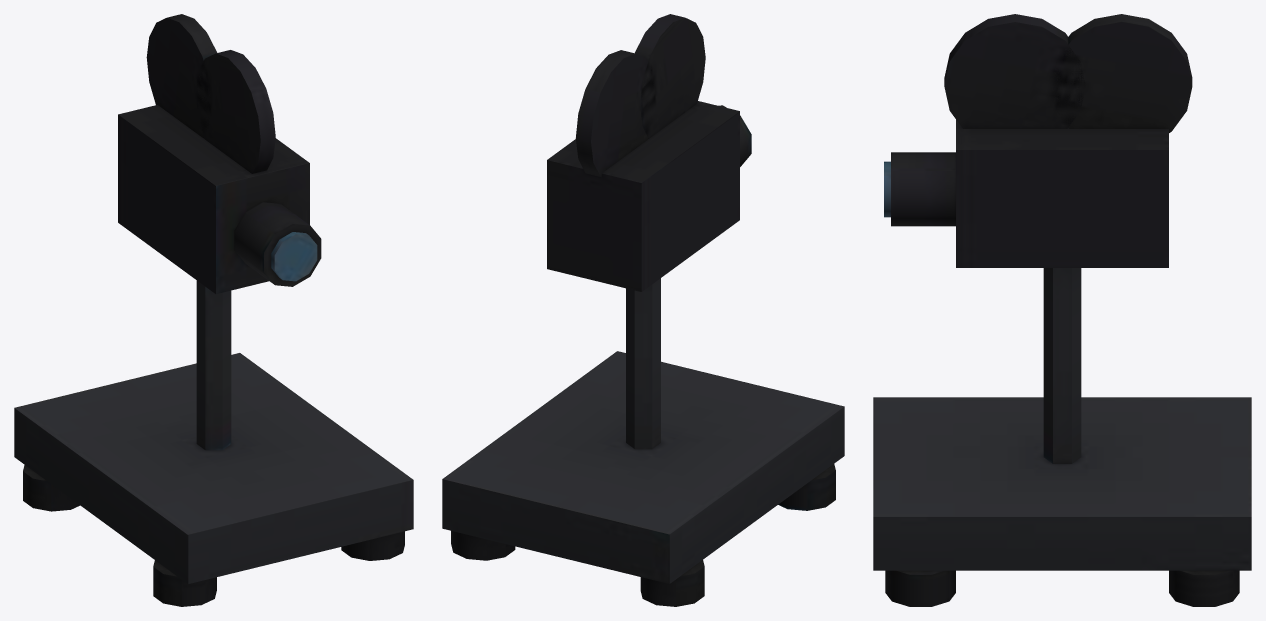
File: camara_cine.glb
The picture shows the model from 3 angles, left to right: view 1: azimuth 30°, elevation 25°; view 2: azimuth 150°, elevation 25°; view 3: azimuth 270°, elevation 25°; orthographic projection. The views are drawn at different scales.
Parts seen in each view (by area): view 1: camara_cine; view 2: camara_cine; view 3: camara_cine.
Boxes of the visible parts, bbox=[...] form: camara_cine: bbox=[14, 14, 413, 606]; camara_cine: bbox=[442, 14, 844, 606]; camara_cine: bbox=[873, 14, 1251, 606].
Bounding box in the file's own units: 1.29 × 2.45 × 1.6.
Materials: 1 (1 with a texture image).
